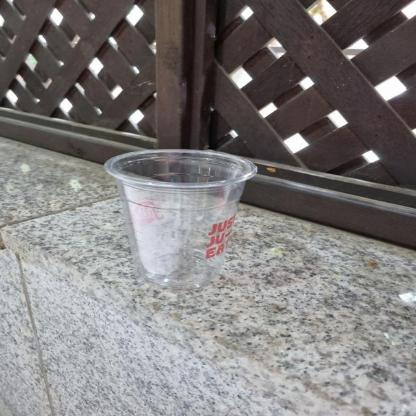Plastic Cup: (102, 152, 262, 292)
